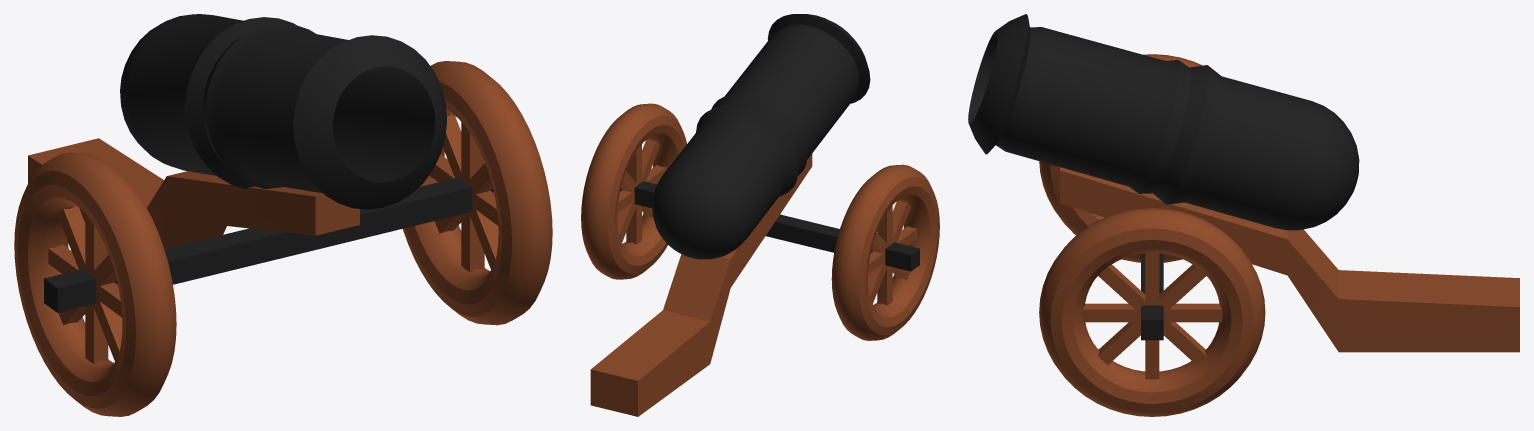
The model's file is Cannon.fbx.
The picture shows the model from 3 angles, left to right: view 1: azimuth 30°, elevation 25°; view 2: azimuth 150°, elevation 25°; view 3: azimuth 270°, elevation 25°; orthographic projection. The views are drawn at different scales.
Visible parts, largest first — view 1: Cannon; view 2: Cannon; view 3: Cannon.
Part boxes in pixels (box(x1,y1,x2,y2)): Cannon: box(14, 14, 552, 416); Cannon: box(581, 14, 939, 416); Cannon: box(968, 14, 1519, 416).
Bounding box in the file's own units: 496 × 386 × 609.
